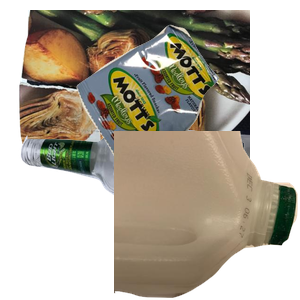glass: (18, 124, 258, 300)
paper: (16, 10, 256, 172)
plastic: (114, 131, 300, 300)
trash: (74, 22, 300, 185)
